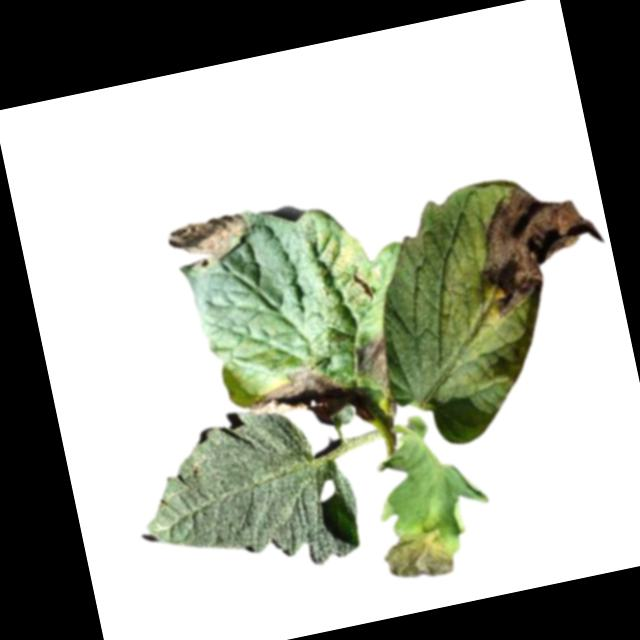Late_blight: (464, 172, 610, 326), (241, 360, 349, 439), (164, 209, 255, 273), (378, 519, 457, 585), (347, 329, 401, 399)
